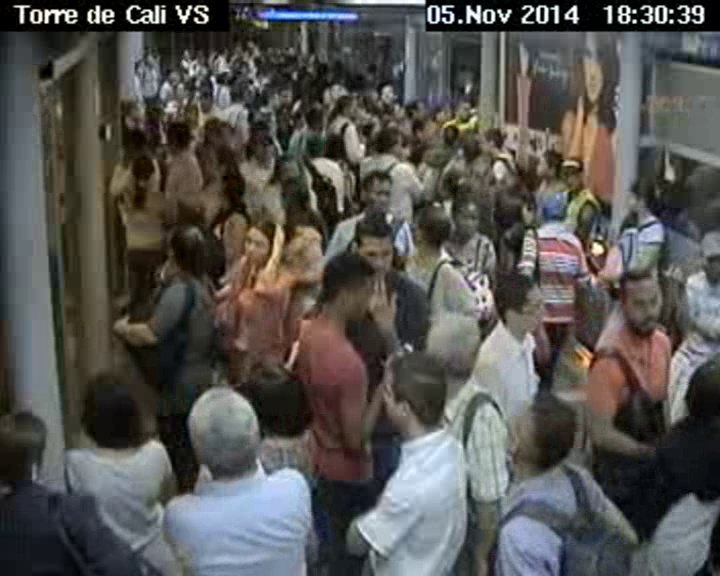person: (182, 383, 269, 484), (375, 343, 448, 442), (506, 384, 584, 475), (313, 242, 378, 331), (75, 369, 145, 449), (345, 209, 407, 286), (1, 408, 61, 484), (490, 271, 546, 341), (157, 215, 209, 280), (617, 265, 662, 340), (403, 202, 454, 258), (242, 218, 289, 273), (354, 167, 395, 215), (197, 143, 239, 188), (444, 196, 485, 241), (619, 178, 659, 216), (698, 227, 720, 286), (162, 120, 196, 158), (274, 178, 308, 215), (271, 151, 306, 186), (248, 128, 279, 165), (375, 125, 409, 158), (532, 148, 564, 182), (559, 153, 585, 193), (539, 193, 569, 227), (132, 156, 158, 192), (478, 126, 508, 156), (303, 103, 330, 133), (334, 94, 361, 120), (401, 98, 429, 122), (229, 79, 252, 106), (194, 84, 216, 112), (375, 79, 398, 104), (258, 83, 279, 108), (119, 98, 144, 118), (455, 99, 475, 123), (440, 123, 461, 145), (277, 83, 295, 106)
